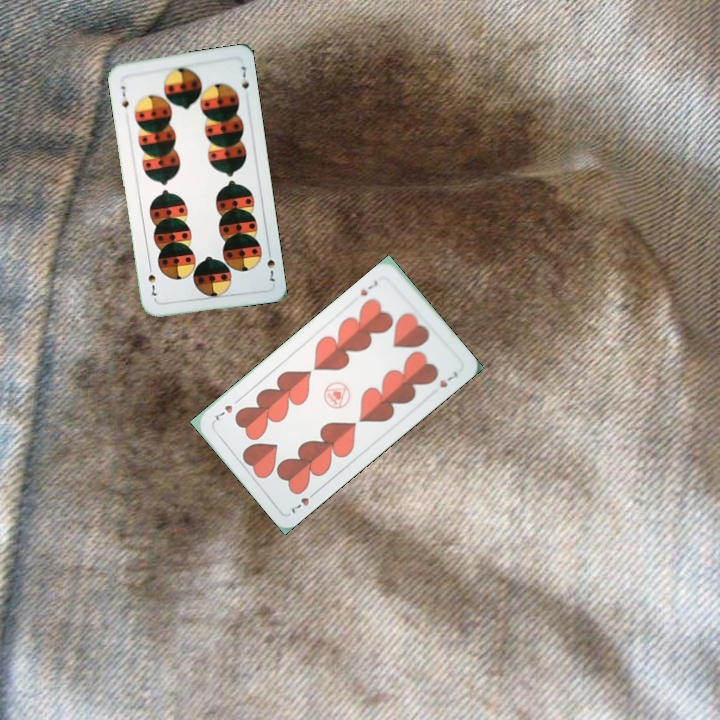H7: (287, 486, 320, 516), (356, 276, 381, 298)
S7: (263, 245, 279, 285), (117, 82, 131, 110)
